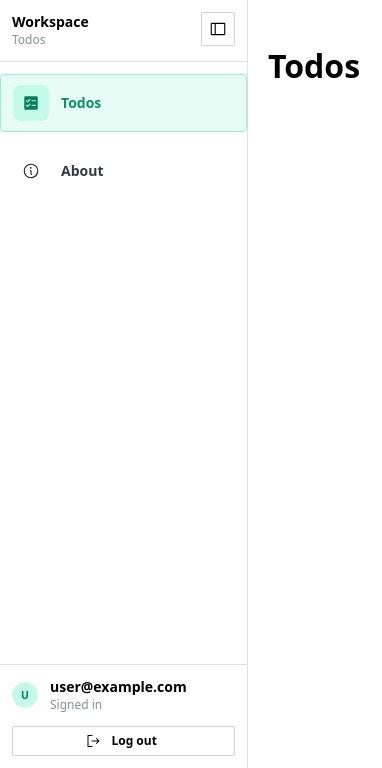
App › renders the authenticated shell and allows navigation between pages
Check: the text "user@example.com" is shown, box [50, 677, 187, 697]
Click the link "About".
click(63, 170)  # box [22, 161, 104, 180]
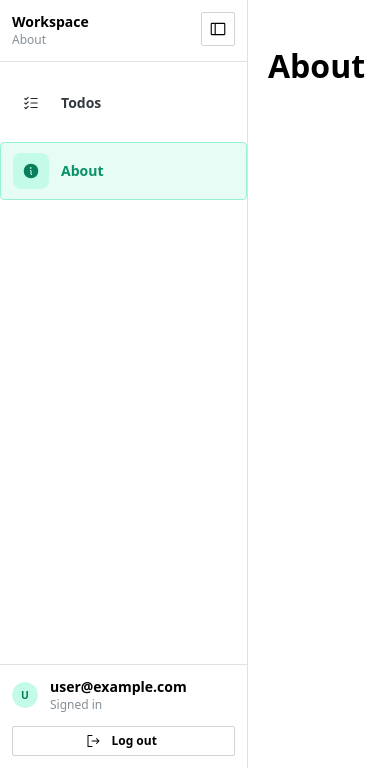
Check: the heading "About" is shown, box [268, 44, 365, 87]
